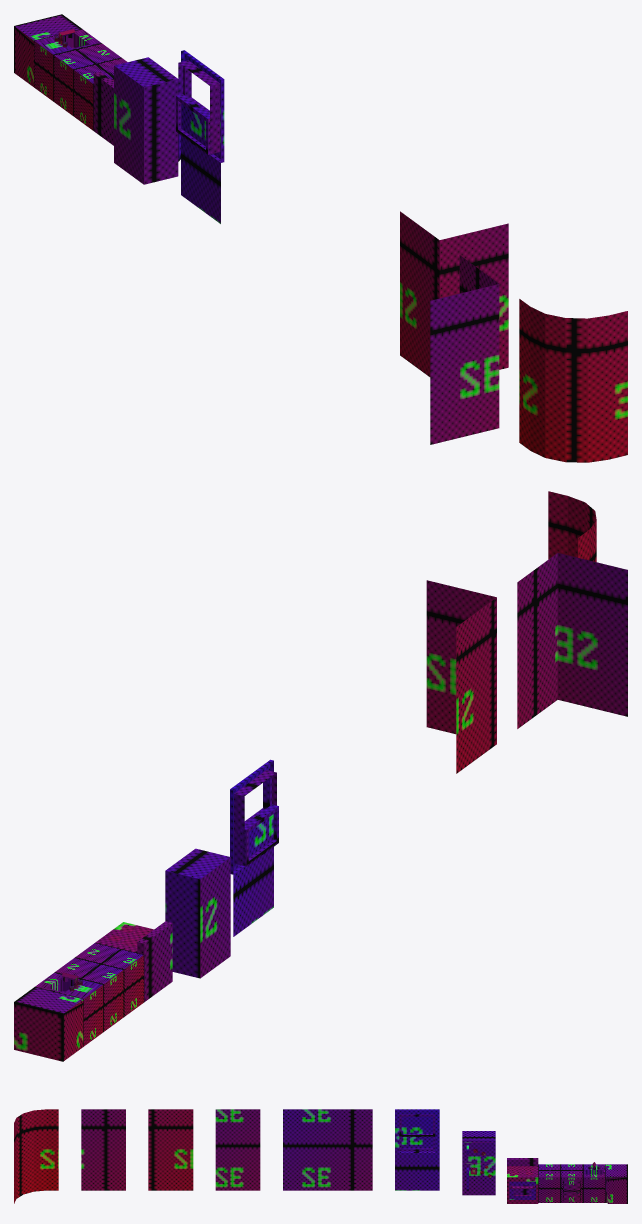
The model's file is Apartment Set.fbx.
3 renders of one model, top to bottom at view 1: azimuth 30°, elevation 25°; view 2: azimuth 150°, elevation 25°; view 3: azimuth 270°, elevation 25°, orthographic. The views are drawn at different scales.
Visible parts, largest first — view 1: Wall_Apt_Corner_Out.001, Wall_Apt_Corner_In, Wall_Apt_Corner_Out, Fridge, Window_Apt_2_Long, Cube.001, Cube.003, Cube.002, Cube, Window_Bot, Oven; view 2: Wall_Apt_Corner_In, Wall_Apt_Corner_Out, Fridge, Window_Apt_2_Long, Cube.002, Oven, Wall_Apt_Corner_Out.001, Cube.003, Cube, Cube.001, Window_Bot; view 3: Wall_Apt_4_Long, Wall_Apt_Corner_Out, Wall_Apt_2_Long, Wall_Apt_Corner_Out.001, Wall_Apt_Corner_In, Window_Apt_2_Long, Oven, Fridge, Fridge_Door_Bot, Cube.002, Cube.003, Cube (+6 smaller).
Part boxes in pixels (x1,y1,x2,y2): Wall_Apt_Corner_Out.001: (519, 299, 627, 462); Wall_Apt_Corner_In: (430, 255, 499, 444); Wall_Apt_Corner_Out: (400, 211, 508, 376); Fridge: (114, 57, 178, 184); Window_Apt_2_Long: (178, 50, 224, 223); Cube.001: (53, 43, 121, 115); Cube.003: (34, 29, 101, 101); Cube.002: (14, 14, 81, 86); Cube: (73, 58, 127, 130); Window_Bot: (176, 94, 213, 154); Oven: (93, 71, 113, 145); Wall_Apt_Corner_In: (517, 553, 627, 728); Wall_Apt_Corner_Out: (426, 580, 496, 773); Fridge: (165, 848, 230, 978); Window_Apt_2_Long: (230, 759, 276, 936); Cube.002: (14, 987, 83, 1061); Oven: (95, 921, 172, 1001); Wall_Apt_Corner_Out.001: (548, 491, 596, 562); Cube.003: (34, 972, 103, 1046); Cube: (75, 942, 144, 1016); Cube.001: (55, 957, 123, 1031); Window_Bot: (239, 804, 278, 866); Wall_Apt_4_Long: (283, 1109, 372, 1190); Wall_Apt_Corner_Out: (148, 1109, 193, 1190); Wall_Apt_2_Long: (215, 1109, 260, 1190); Wall_Apt_Corner_Out.001: (14, 1109, 58, 1203); Wall_Apt_Corner_In: (81, 1109, 125, 1190); Window_Apt_2_Long: (395, 1109, 439, 1190); Oven: (507, 1158, 538, 1203); Fridge: (462, 1131, 495, 1195); Fridge_Door_Bot: (464, 1163, 493, 1193); Cube.002: (605, 1164, 627, 1203); Cube.003: (583, 1162, 605, 1202); Cube: (538, 1164, 560, 1202).
Size of the model in its own units: 2740 by 400 by 400.
1 material, 1 textured.
